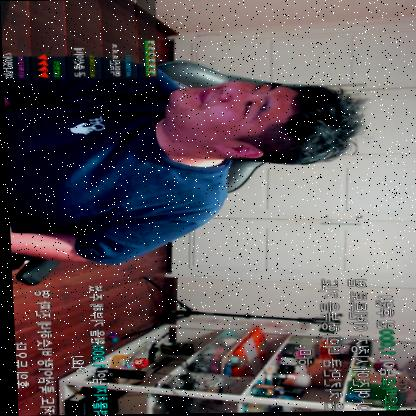donation: (11, 283, 150, 416), (287, 277, 398, 413)
streamer: (2, 51, 369, 266)
